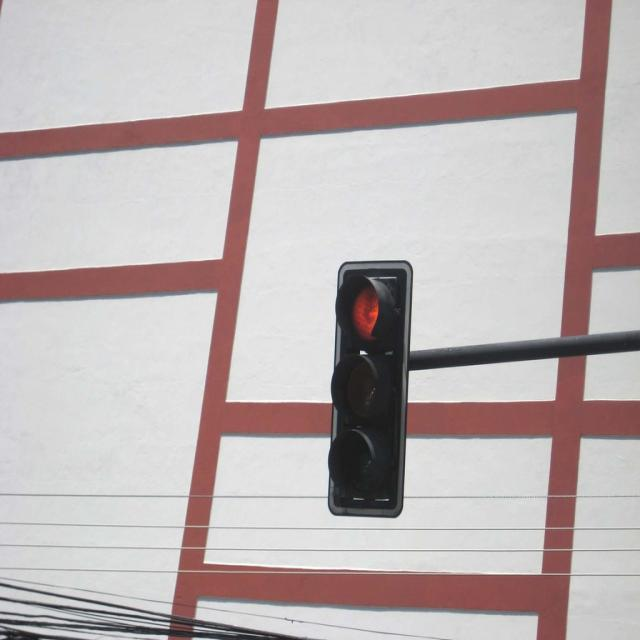traffic light: (334, 259, 408, 518)
